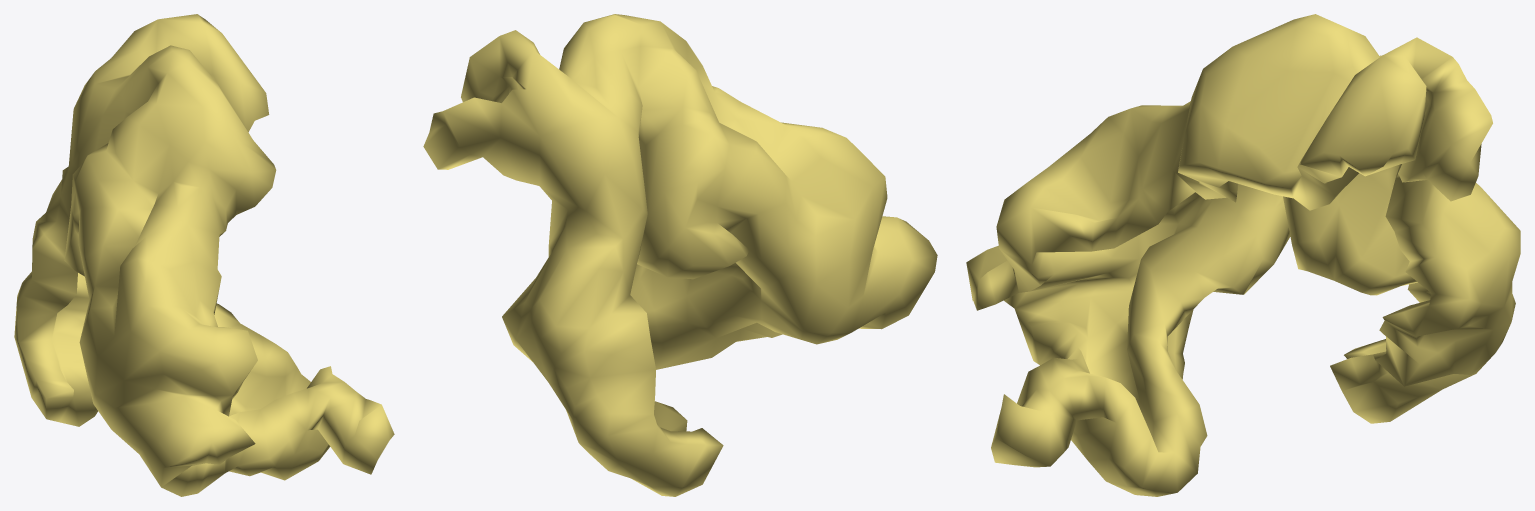
The model's file is supramarginal-gyrus-r.glb.
3 views of the same model, side by side, from view 1: azimuth 30°, elevation 25°; view 2: azimuth 150°, elevation 25°; view 3: azimuth 270°, elevation 25° (orthographic). The views are drawn at different scales.
Parts seen in each view (by area): view 1: Supramarginal gyrus.r; view 2: Supramarginal gyrus.r; view 3: Supramarginal gyrus.r.
Boxes of the visible parts, x1=… form: Supramarginal gyrus.r: x1=14, y1=14, x2=394, y2=496; Supramarginal gyrus.r: x1=423, y1=14, x2=937, y2=496; Supramarginal gyrus.r: x1=966, y1=14, x2=1520, y2=496.
Bounding box in the file's own units: 0.0302 × 0.044 × 0.049.
